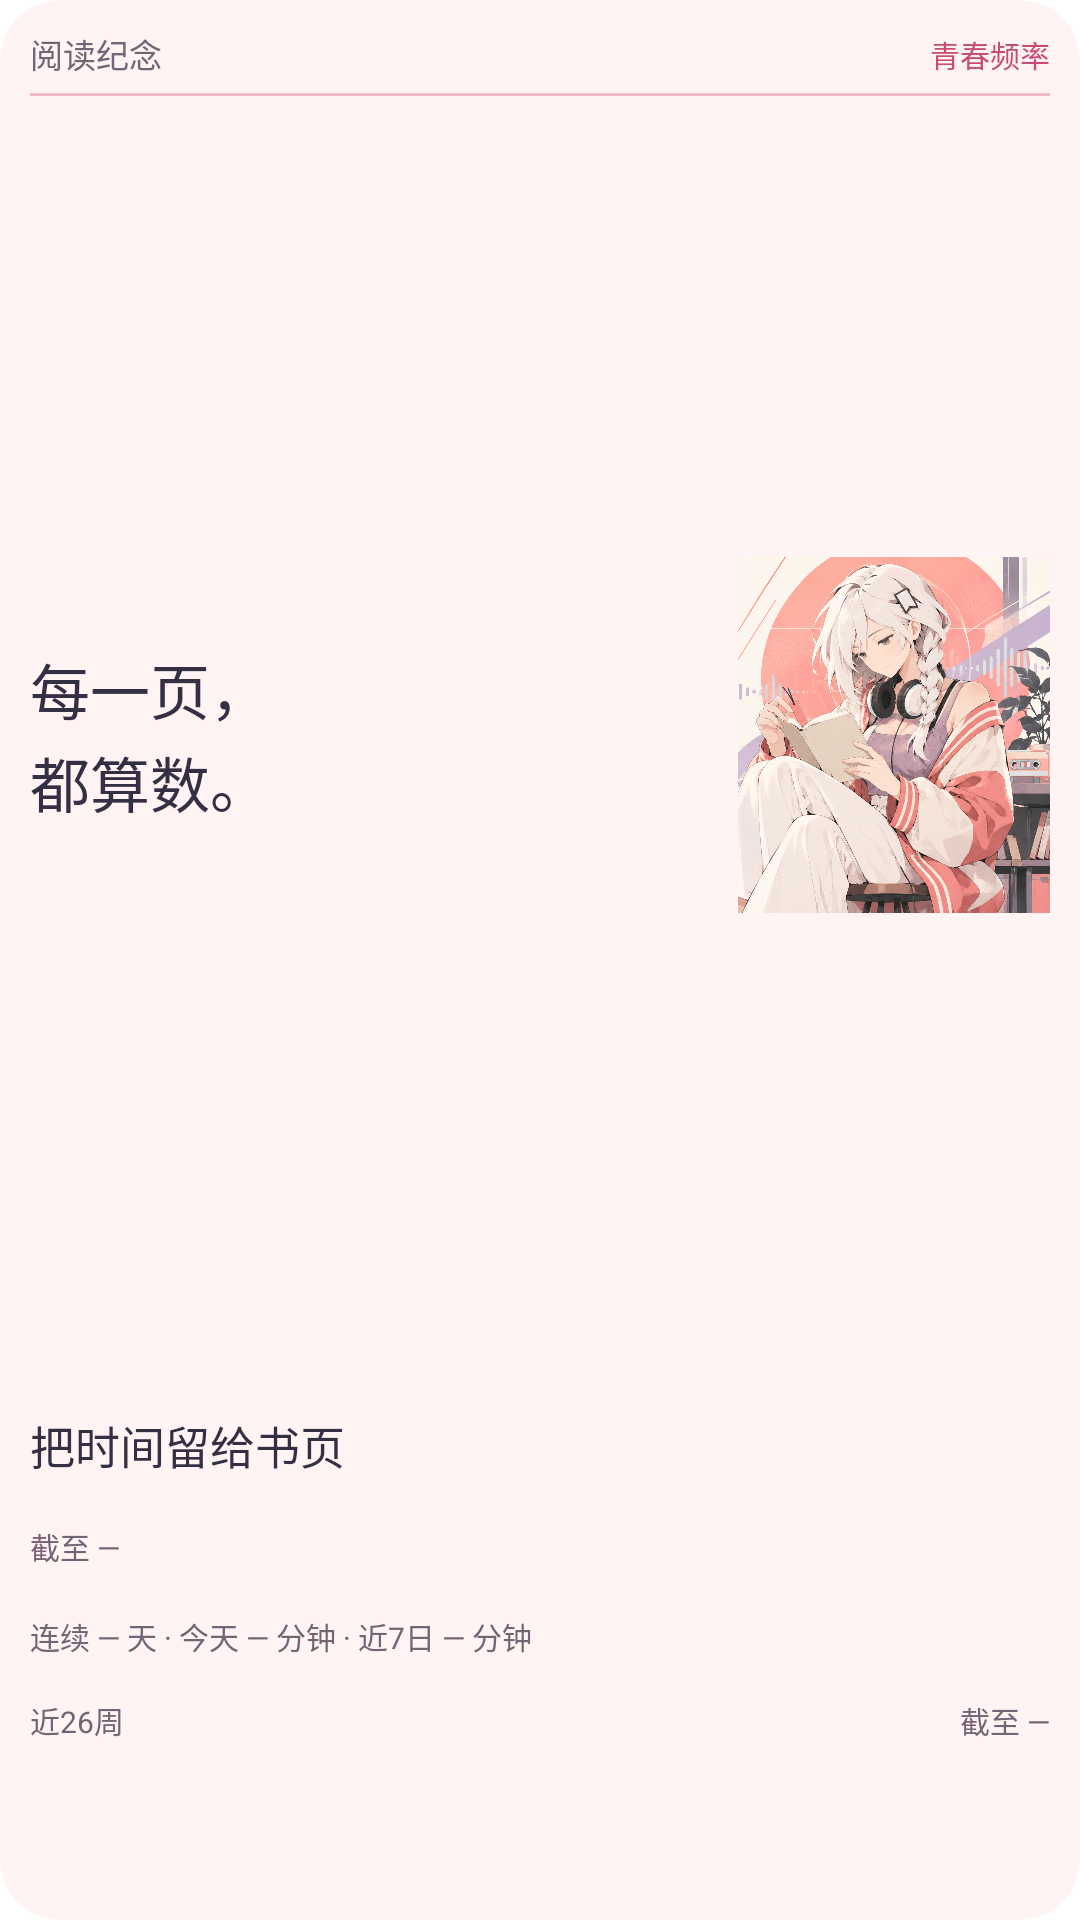

Point at icon controls on the screen. Image size 1080x1920, points as point (x, y).
reading widget art score: point (894, 735)
